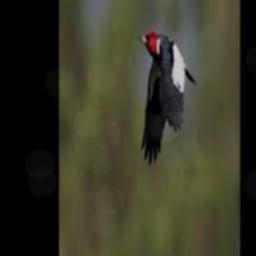Woodpecker: (139, 29, 198, 165)
